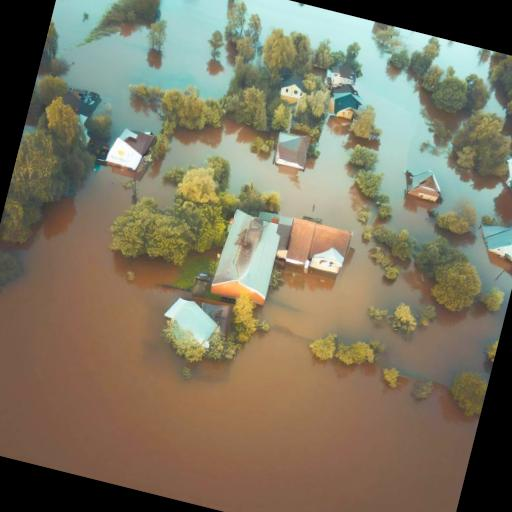flood: (0, 167, 480, 512), (138, 118, 512, 386), (243, 0, 471, 173), (51, 0, 180, 136), (146, 0, 234, 97), (432, 167, 512, 226), (438, 38, 491, 87), (390, 191, 438, 241), (378, 167, 406, 201), (485, 89, 506, 116)
house: (210, 208, 286, 308), (283, 214, 353, 281), (158, 292, 222, 346), (104, 122, 156, 178), (401, 164, 447, 211), (473, 215, 512, 269), (270, 128, 312, 176), (62, 84, 104, 124), (327, 86, 364, 122), (274, 79, 307, 117), (326, 62, 361, 90), (499, 151, 512, 189)
